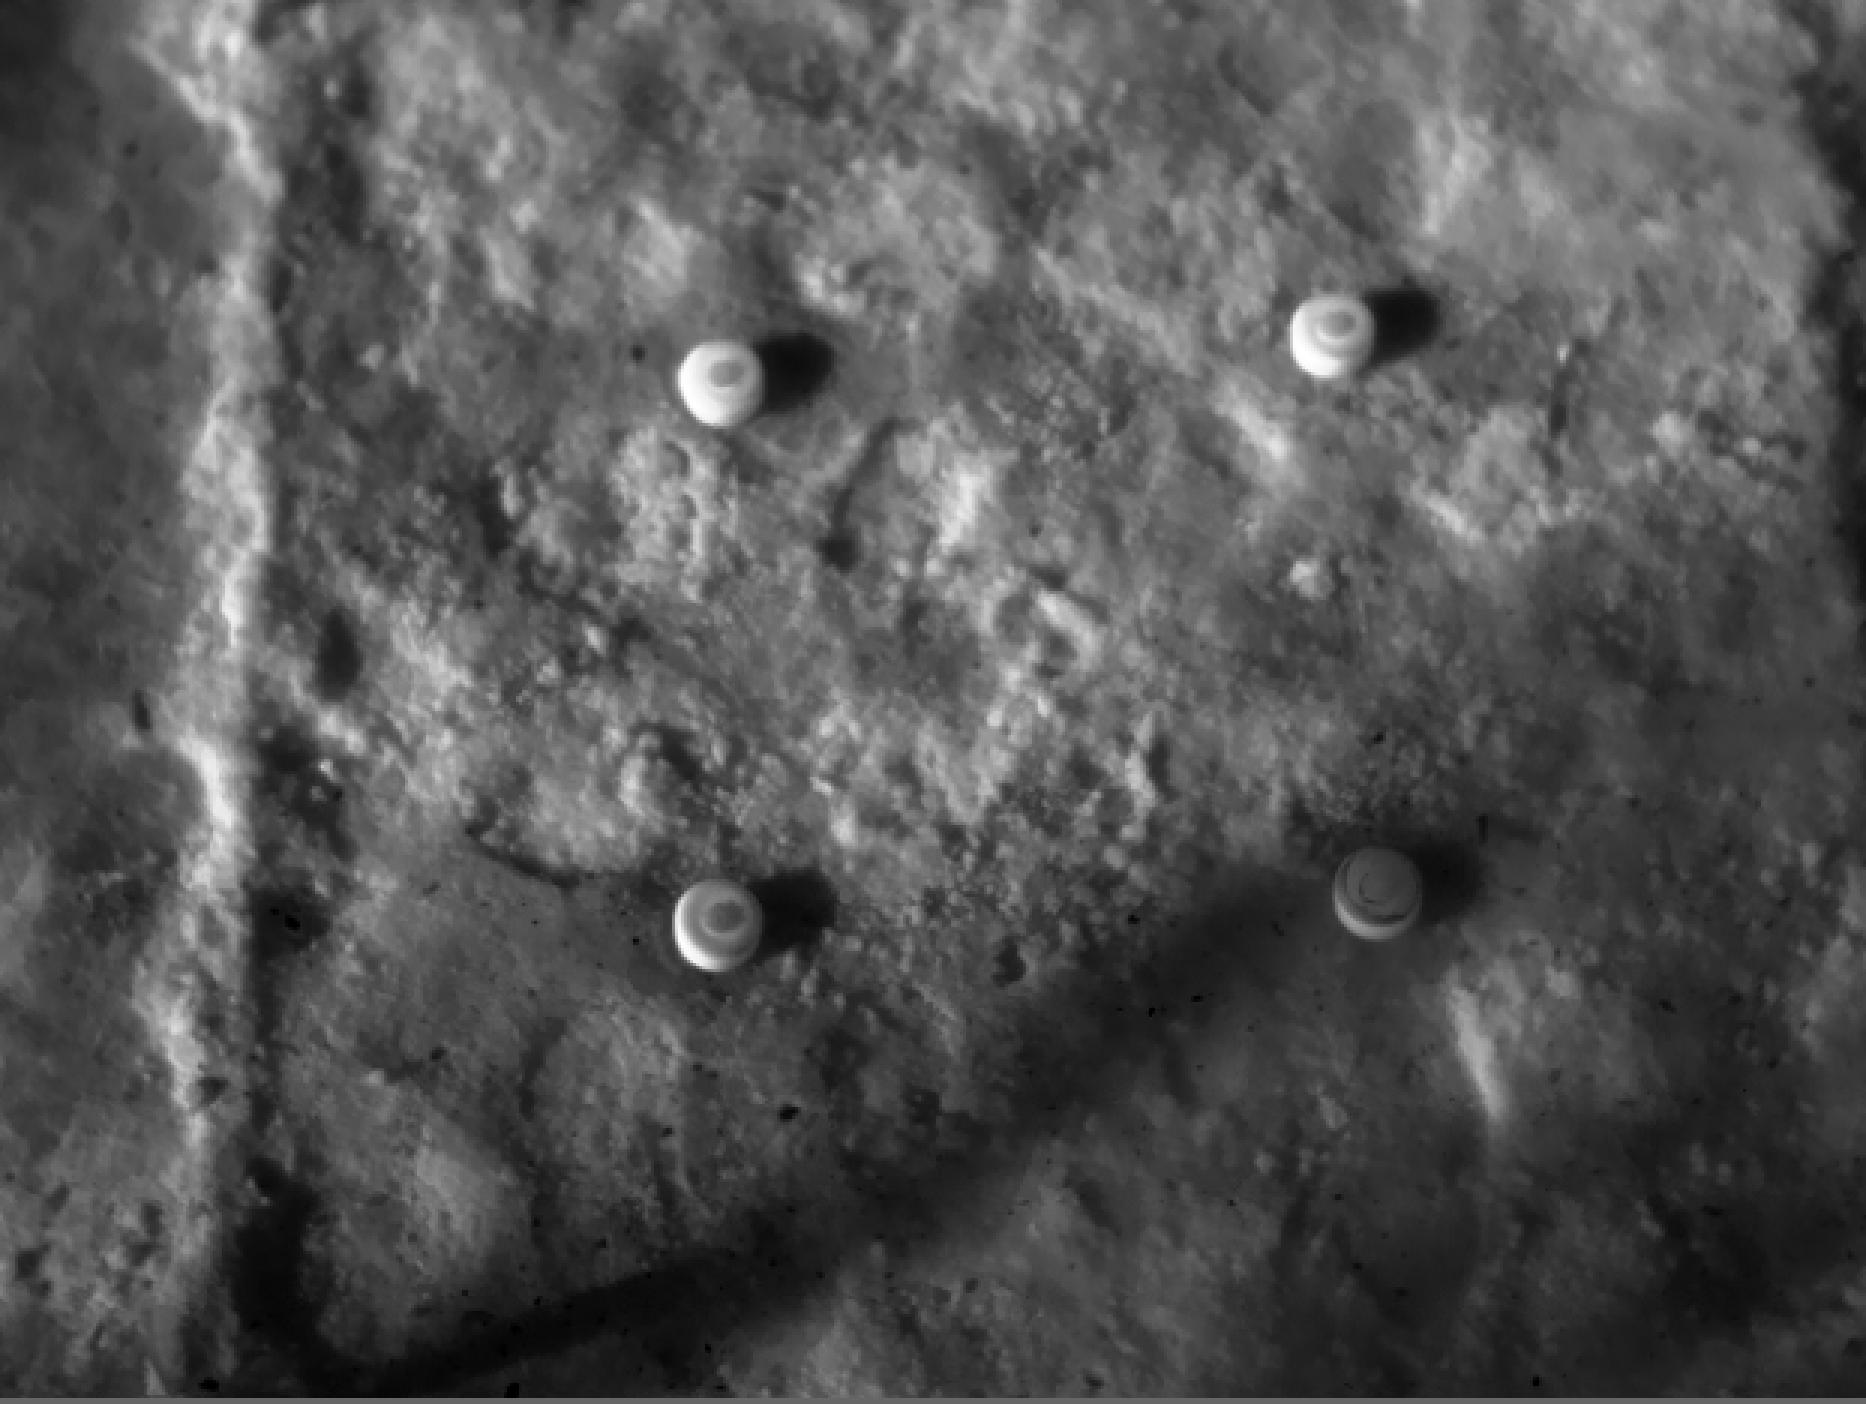mines-gjV8: (1292, 288, 1397, 380), (1332, 848, 1432, 944), (676, 342, 788, 423), (676, 875, 771, 967)
